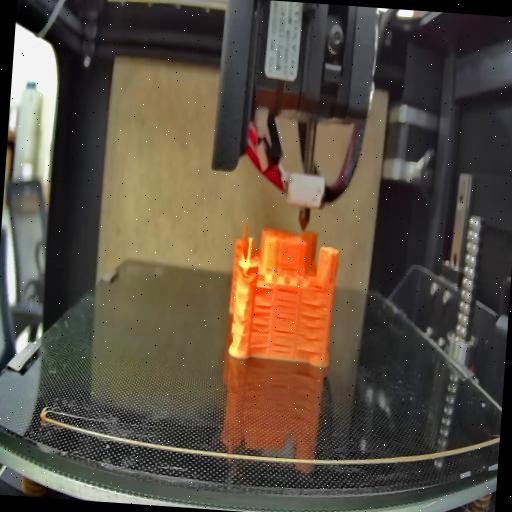cracks: (296, 302, 328, 354), (247, 303, 272, 352), (275, 286, 299, 322), (272, 326, 294, 354), (281, 259, 296, 272), (254, 286, 274, 294)
